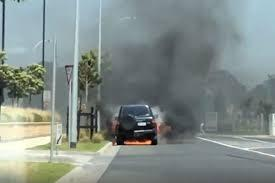smoke: (95, 0, 236, 143)
